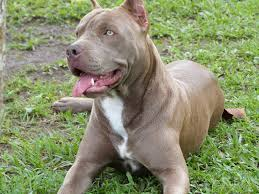Perro Pitbull: (55, 1, 186, 130)
